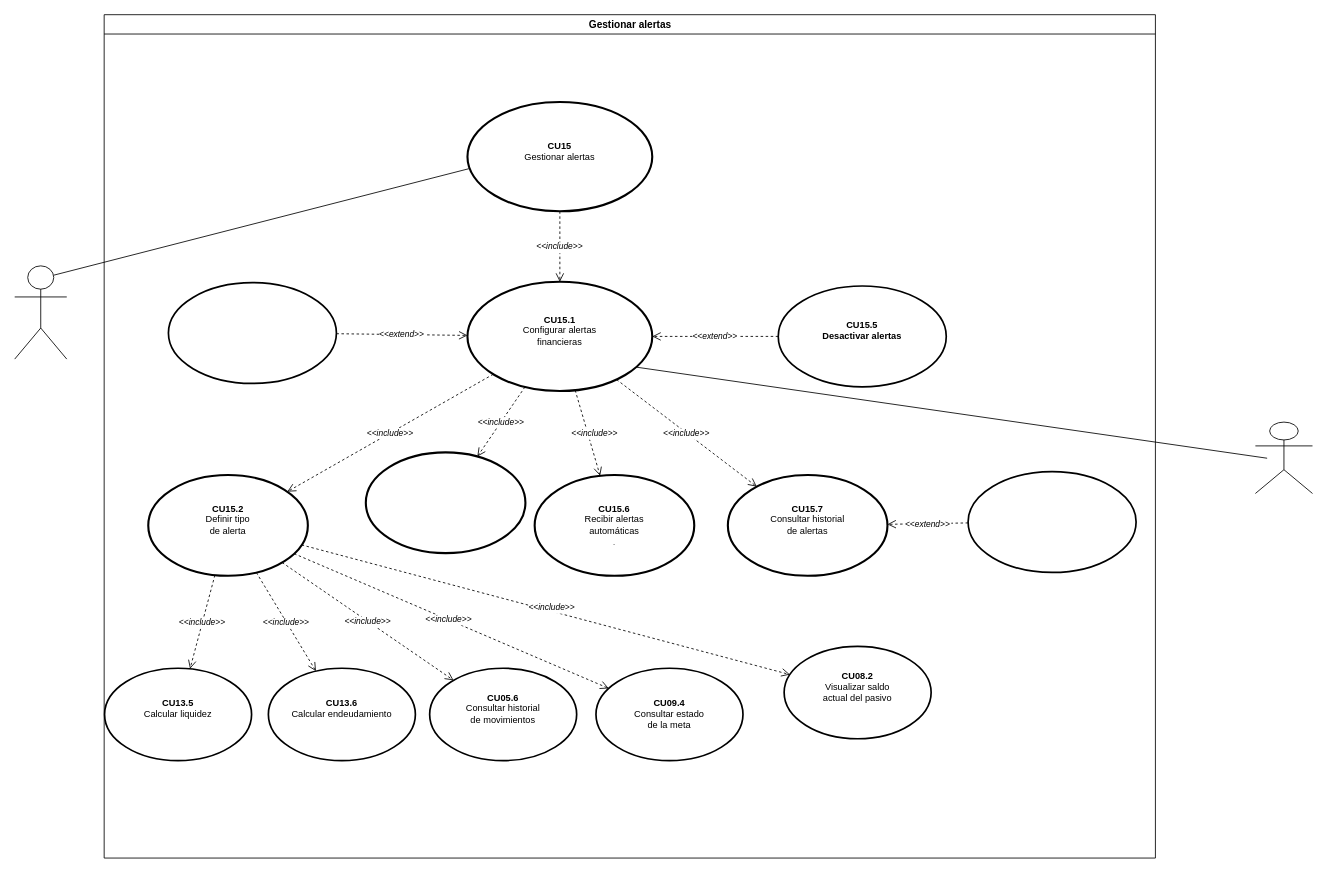
This 1332x873 diagram has some shape labels left out. Here are the shapes that lost their labels. From the top down, the centre of each, then its label:
At [40,312]: "Usuario".
At [252,332]: "CU15.4 Activar alertas".
At [1283,457]: "Base de datos".
At [445,502]: "CU15.3 Definir umbral de alerta .".
At [1052,521]: "CU15.8 Visualizar detalle de una alerta".
